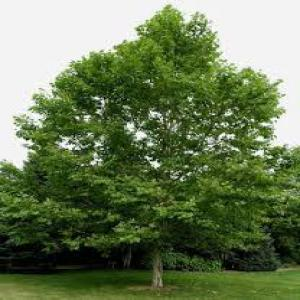Tree: (11, 3, 290, 288)
